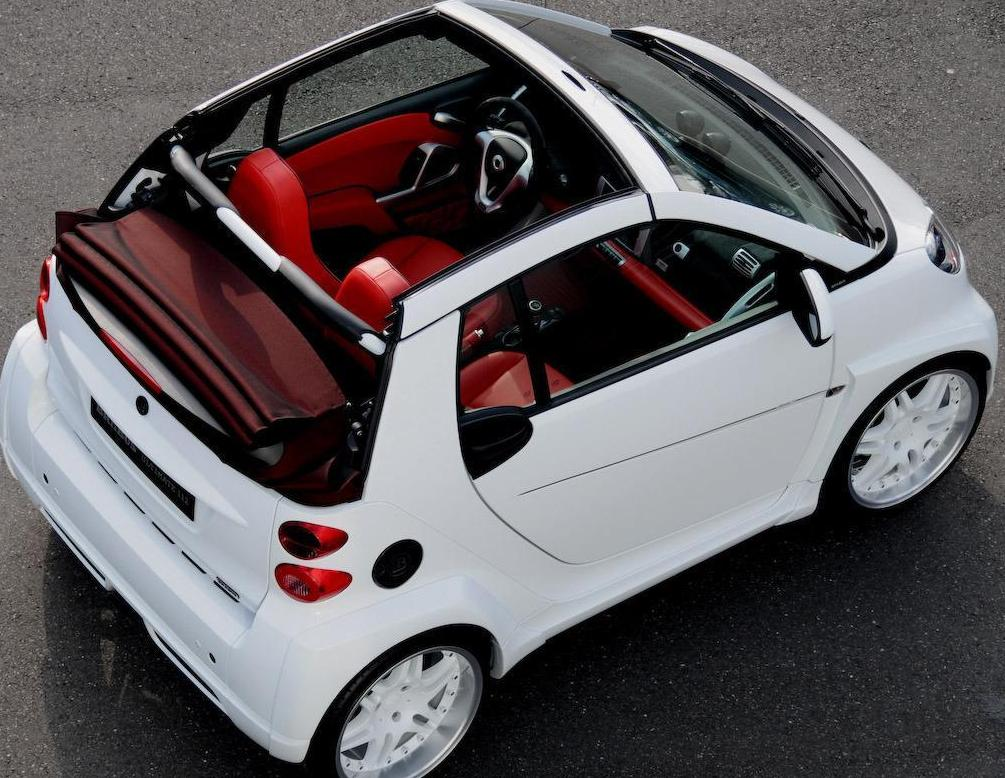back_view: (8, 223, 383, 752)
backlight: (261, 488, 374, 624)
